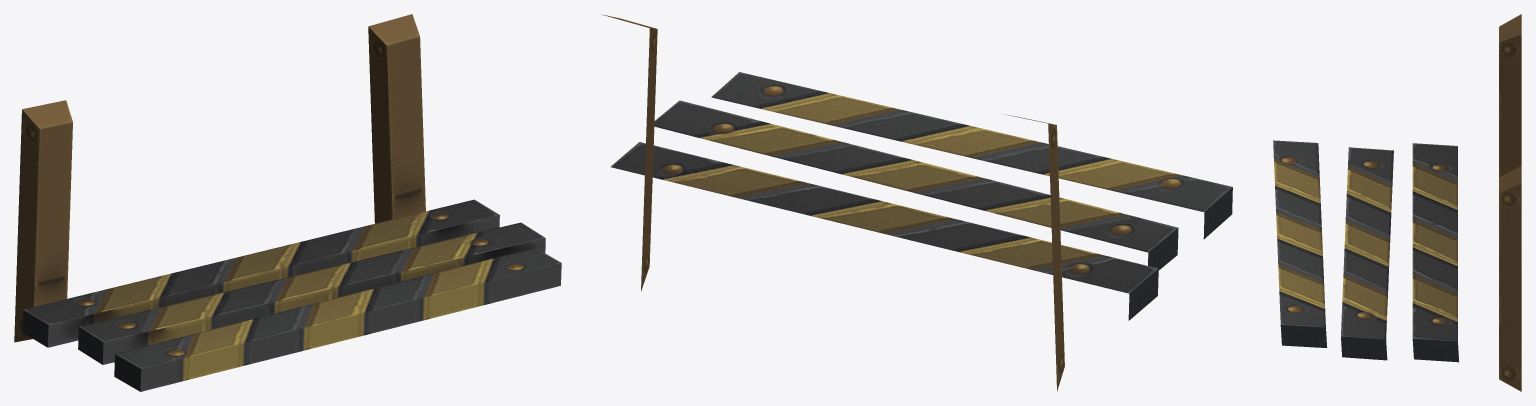
The model's file is roadblock_02.glb.
3 renders of one model, left to right at view 1: azimuth 30°, elevation 25°; view 2: azimuth 150°, elevation 25°; view 3: azimuth 270°, elevation 25°, orthographic. The views are drawn at different scales.
Visible parts, largest first — view 1: gremlin.roadblock_02-MeshNodes["roadblock_02"]; view 2: gremlin.roadblock_02-MeshNodes["roadblock_02"]; view 3: gremlin.roadblock_02-MeshNodes["roadblock_02"].
Part boxes in pixels (box(x1,y1,x2,y2)): gremlin.roadblock_02-MeshNodes["roadblock_02"]: box(14, 14, 561, 391); gremlin.roadblock_02-MeshNodes["roadblock_02"]: box(602, 14, 1232, 391); gremlin.roadblock_02-MeshNodes["roadblock_02"]: box(1273, 14, 1521, 391).
Size of the model in its own units: 2.12 by 1.03 by 1.17.
Materials: 1 (1 with a texture image).
